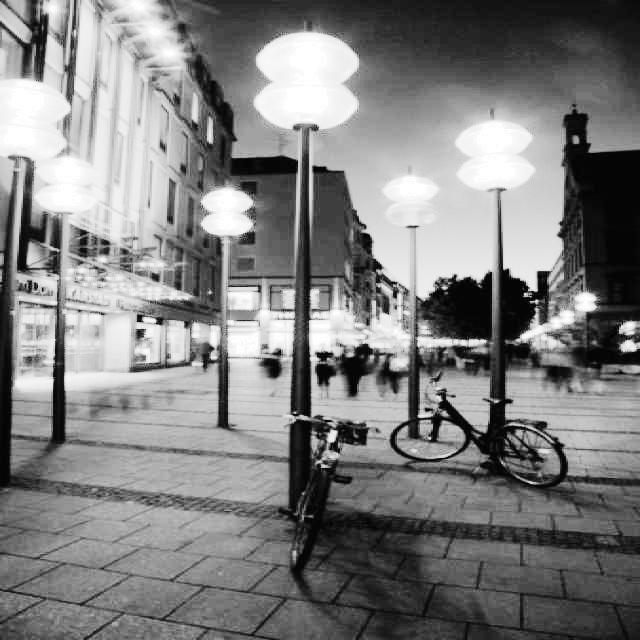Bicycle: (388, 385, 570, 492), (282, 409, 373, 581)
Light: (252, 35, 361, 132)
